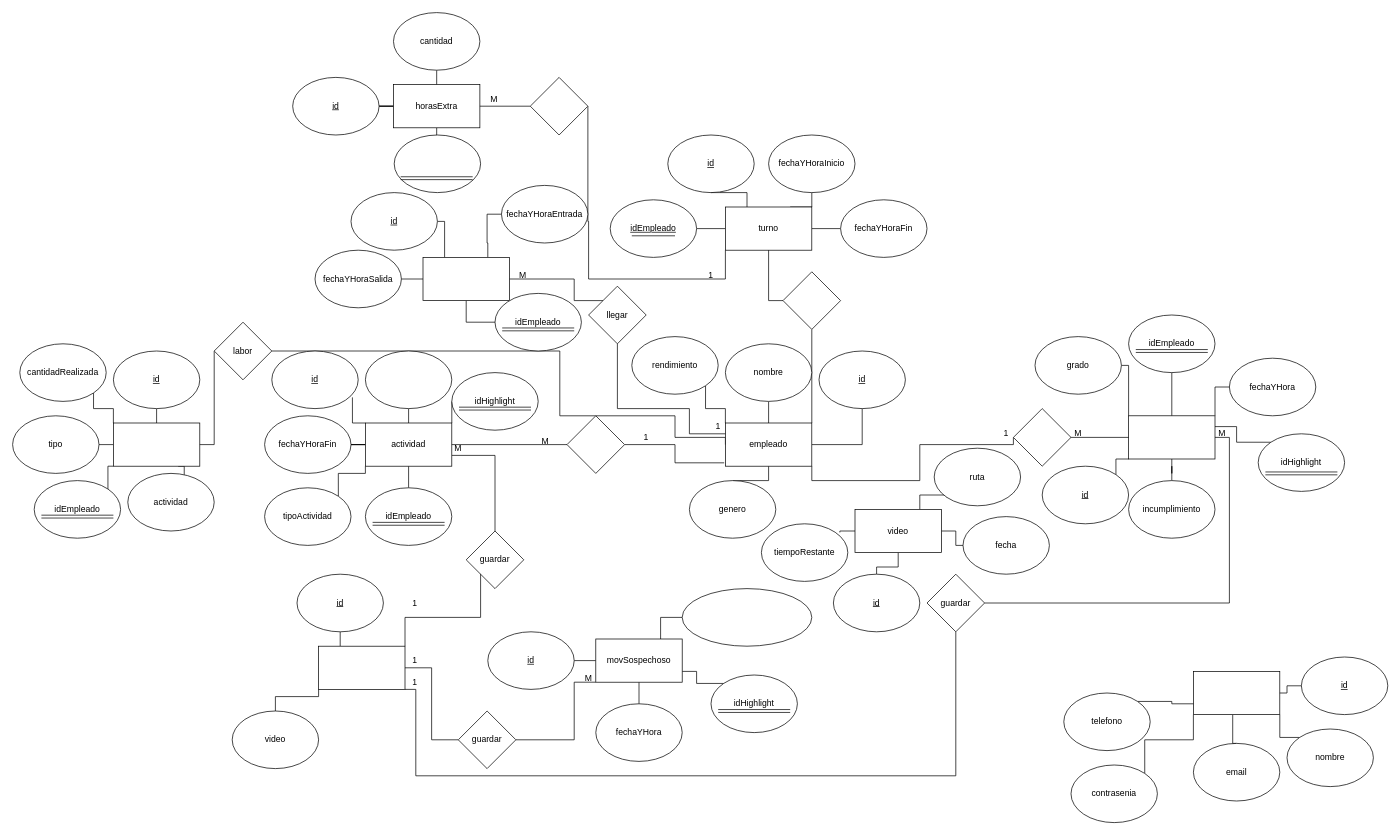
The diagram is 1400 pixels wide and 835 high, and some of its shapes have lost their labels. Here are the shapes that lost their labels. From the top down, the centre of each, then its label:
At [559,106]: "tener".
At [437,163]: "idTurno".
At [465,279]: "horas".
At [811,300]: "trabajar".
At [408,379]: "fechaYHoraComienzo".
At [156,444]: "metrica".
At [595,444]: "hacer".
At [1042,437]: "recibir".
At [1171,437]: "alerta".
At [746,617]: "descripcionPersonaInvolucrada".
At [361,667]: "highlights".
At [1236,693]: "usuario".
